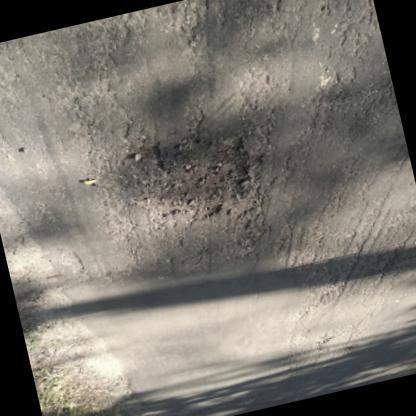pothole: (150, 122, 271, 236)
